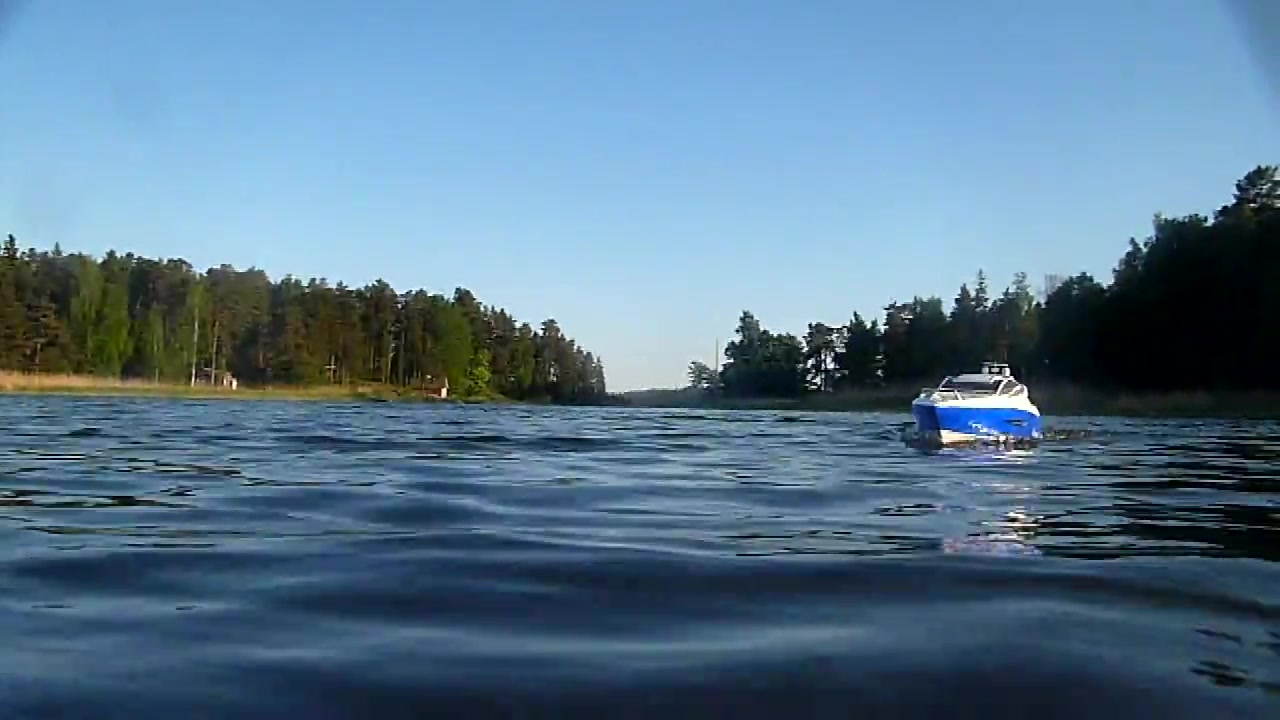boat: (904, 359, 1048, 459)
